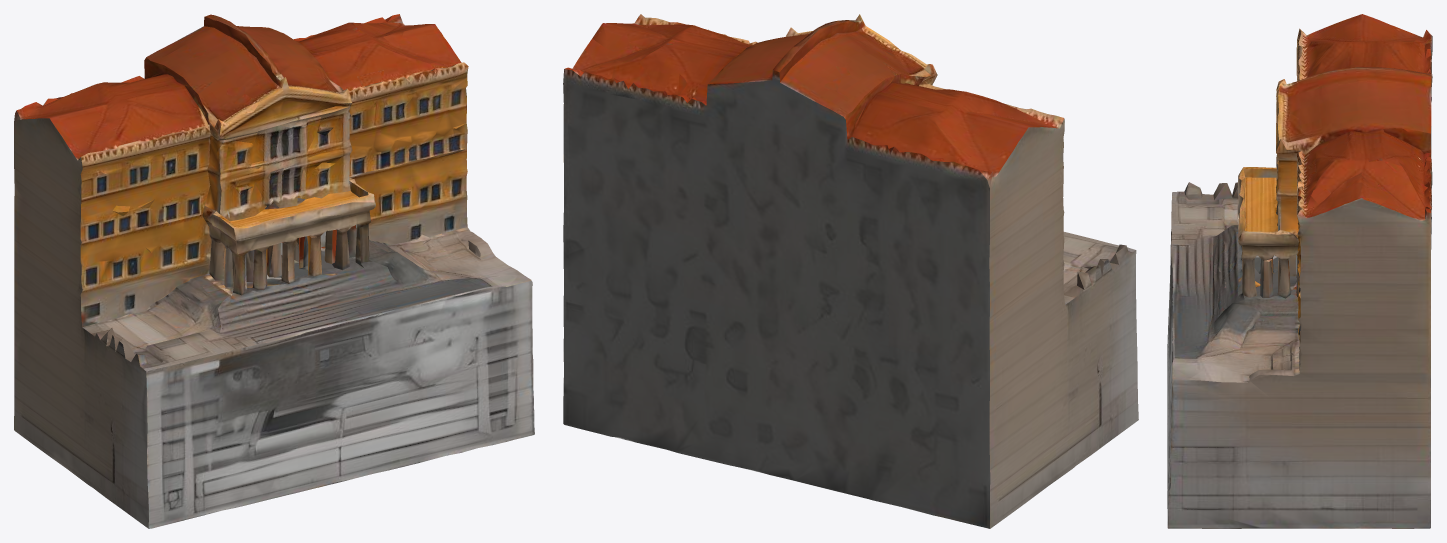
The model's file is hellenic-parliament.glb.
3 views of the same model, side by side, from view 1: azimuth 30°, elevation 25°; view 2: azimuth 150°, elevation 25°; view 3: azimuth 270°, elevation 25° (orthographic). The views are drawn at different scales.
Parts seen in each view (by area): view 1: logan-textured.obj; view 2: logan-textured.obj; view 3: logan-textured.obj.
Part boxes in pixels (bbox=[...]): logan-textured.obj: bbox=[14, 14, 534, 528]; logan-textured.obj: bbox=[563, 14, 1138, 528]; logan-textured.obj: bbox=[1167, 14, 1432, 528].
Size of the model in its own units: 1 by 0.9325 by 0.6076.
Materials: 1 (1 with a texture image).
